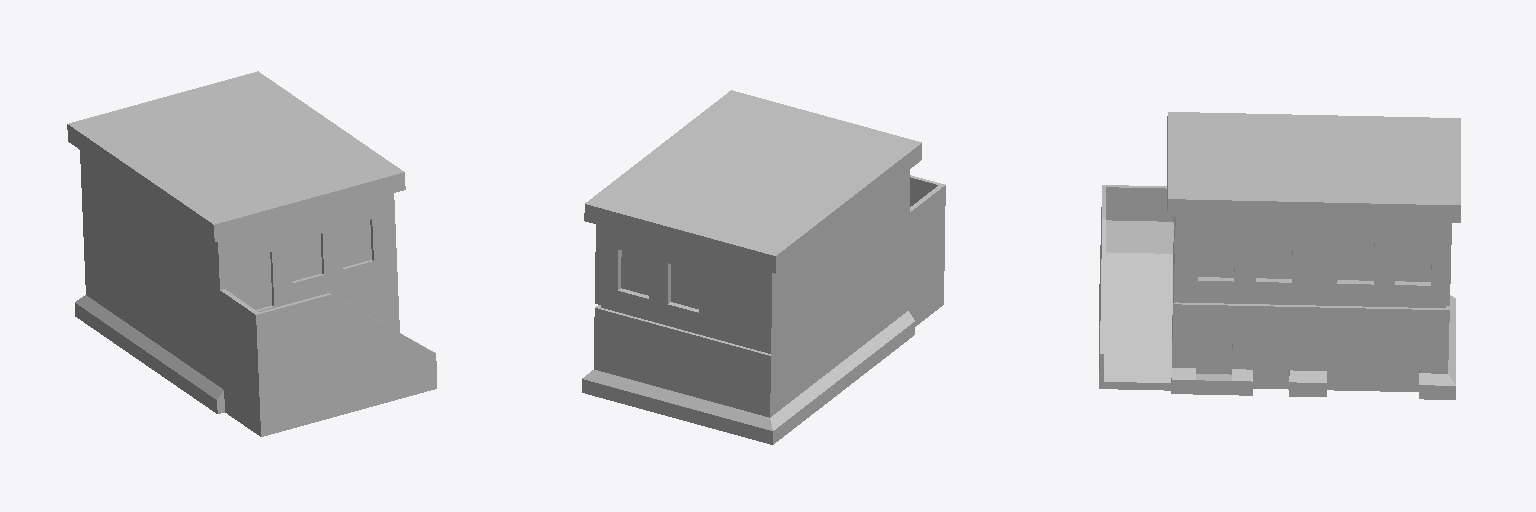
File: house6.obj
3 renders of one model, left to right at view 1: azimuth 30°, elevation 25°; view 2: azimuth 150°, elevation 25°; view 3: azimuth 270°, elevation 25°, orthographic.
Parts seen in each view (by area): view 1: houseRamp_null_; view 2: houseRamp_null_; view 3: houseRamp_null_.
Boxes of the visible parts, <box> form: houseRamp_null_: <box>67,71,436,436</box>; houseRamp_null_: <box>582,90,945,444</box>; houseRamp_null_: <box>1099,112,1460,399</box>.
Bounding box in the file's own units: 33.23 × 33.02 × 53.05.